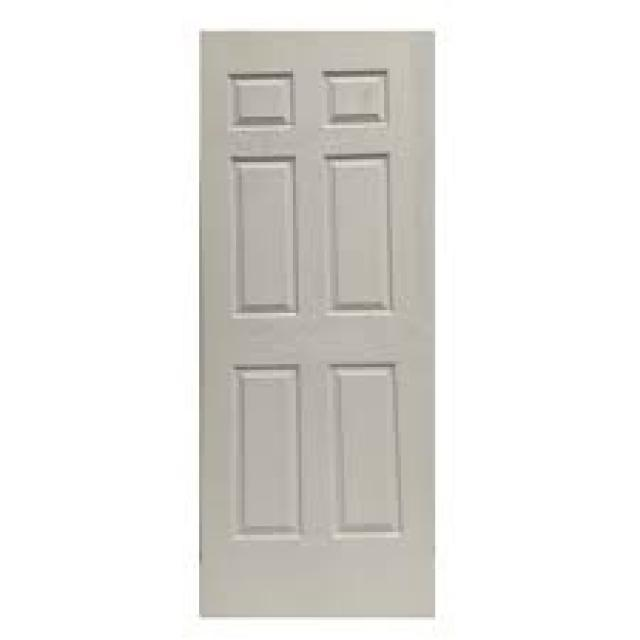door: (198, 28, 436, 618)
